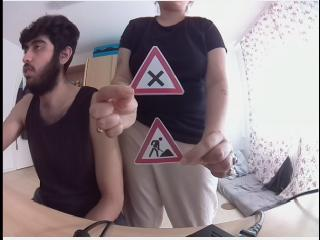construction: (132, 117, 182, 163)
intersection: (128, 48, 184, 94)
